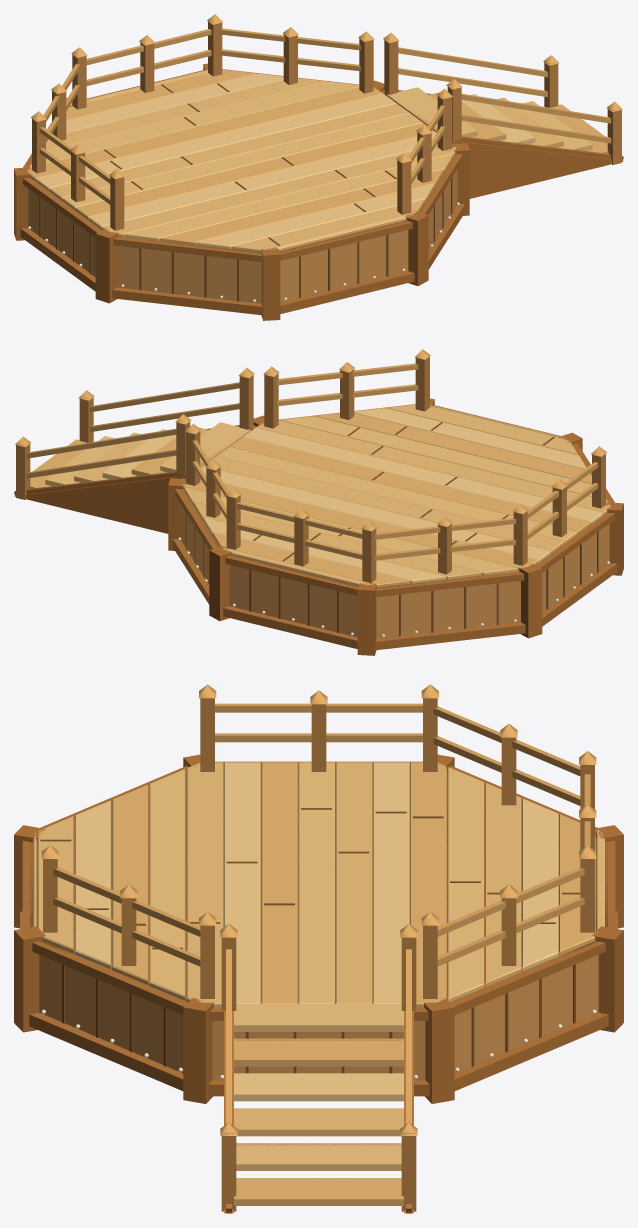
The model's file is landing_deck.glb.
The picture shows the model from 3 angles, top to bottom: view 1: azimuth 30°, elevation 25°; view 2: azimuth 150°, elevation 25°; view 3: azimuth 270°, elevation 25°; orthographic projection. The views are drawn at different scales.
Visible parts, largest first — view 1: landing_deck; view 2: landing_deck; view 3: landing_deck.
Boxes of the visible parts, box(x1,y1,x2,y2) form: landing_deck: box(14, 14, 623, 320); landing_deck: box(14, 349, 623, 655); landing_deck: box(14, 684, 623, 1213).
Size of the model in its own units: 10.74 by 2.39 by 7.45.
